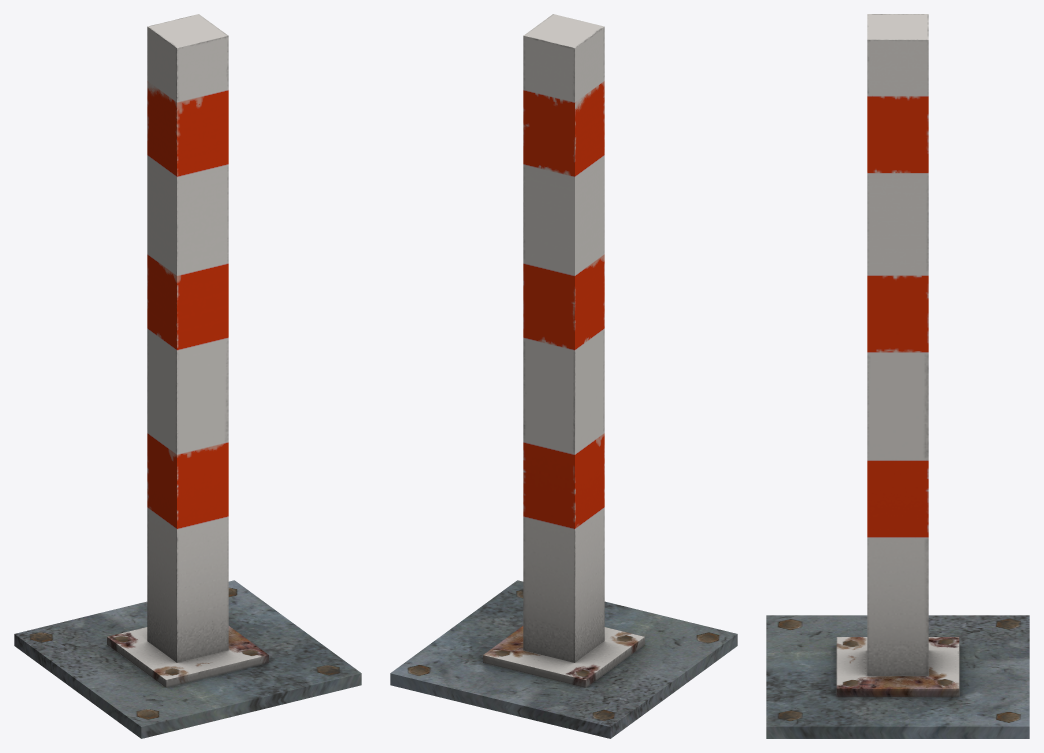
Rendered from Post-End_FBX.fbx.
3 views of the same model, side by side, from view 1: azimuth 30°, elevation 25°; view 2: azimuth 150°, elevation 25°; view 3: azimuth 270°, elevation 25° (orthographic). The views are drawn at different scales.
Parts seen in each view (by area): view 1: Post_End; view 2: Post_End; view 3: Post_End.
Part boxes in pixels (x1=…): Post_End: x1=14, y1=14, x2=361, y2=738; Post_End: x1=390, y1=14, x2=737, y2=738; Post_End: x1=766, y1=14, x2=1029, y2=738.
Bounding box in the file's own units: 30 × 82.55 × 30.
